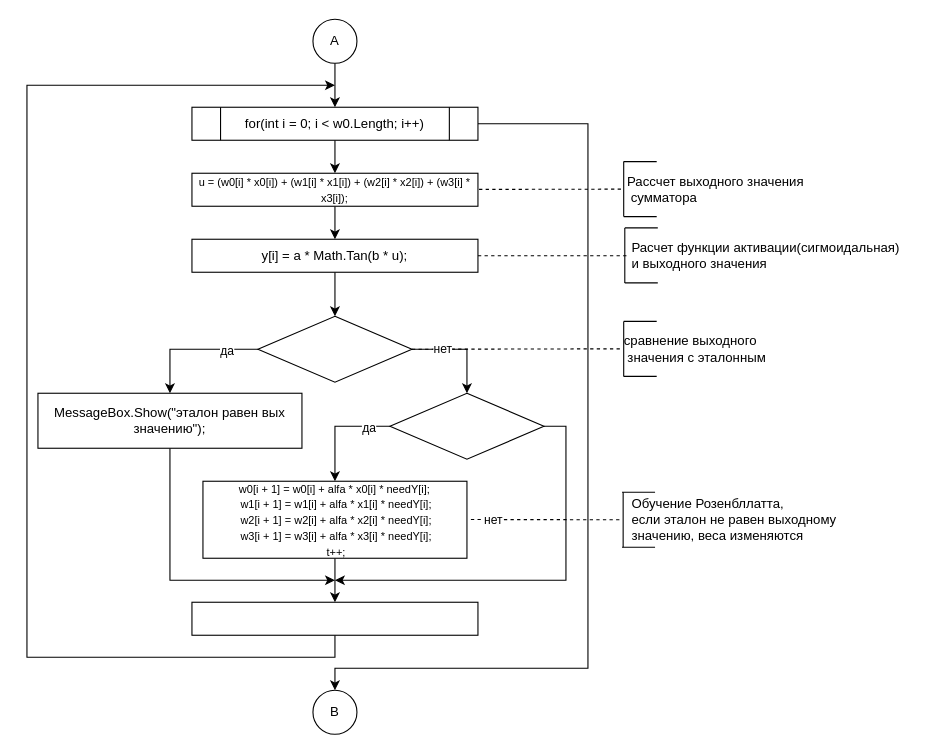
This 934x754 diagram has some shape labels left out. The shapes that lost their labels are listed below. From the top down, each one's centre as x and y in pixels, then its label:
At (x=334, y=348): "if (y[i] == needY[i])".
At (x=466, y=425): "if (i < 499)".
At (x=334, y=618): "i = i +1;".
